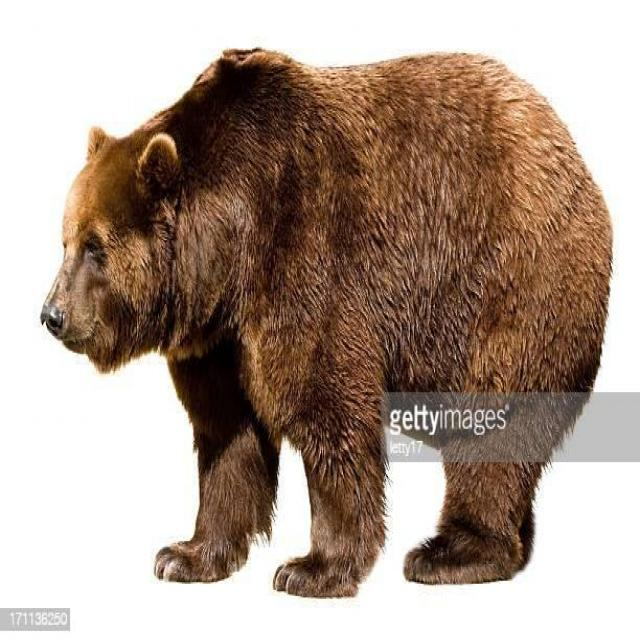Bear: (39, 49, 614, 600)
